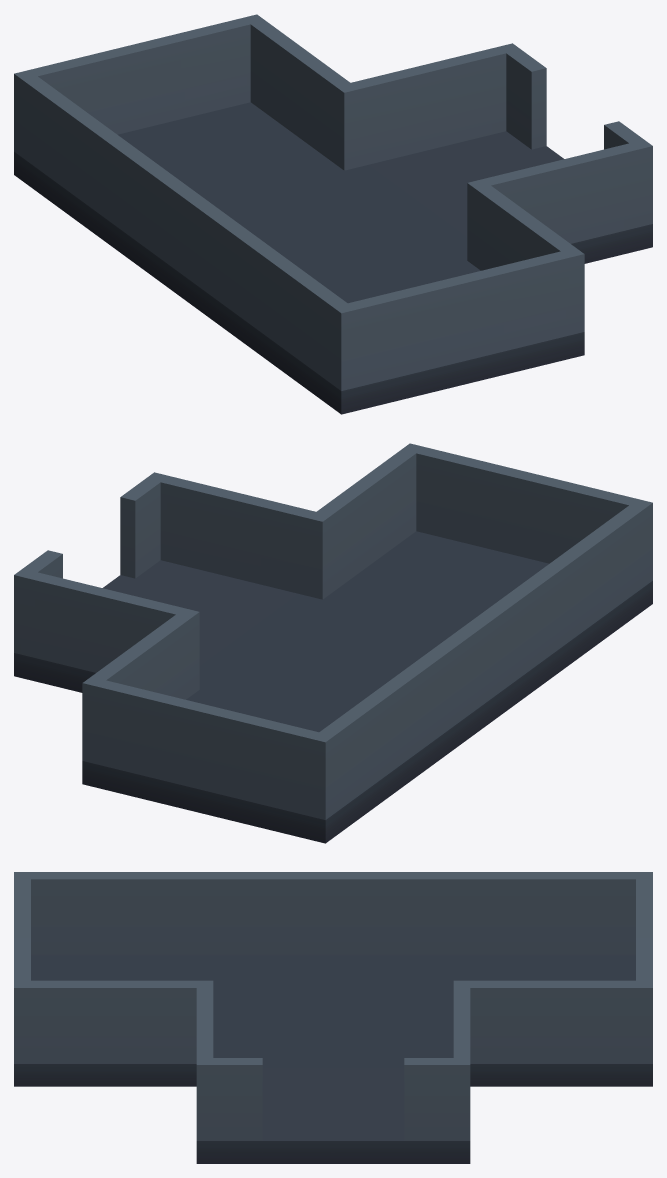
The model's file is Fundaments_3_3.fbx.
3 views of the same model, one above another, from view 1: azimuth 30°, elevation 25°; view 2: azimuth 150°, elevation 25°; view 3: azimuth 270°, elevation 25° (orthographic). The views are drawn at different scales.
Parts seen in each view (by area): view 1: Fundaments_3_3; view 2: Fundaments_3_3; view 3: Fundaments_3_3.
Part boxes in pixels (x1=…): Fundaments_3_3: x1=14, y1=14, x2=652, y2=414; Fundaments_3_3: x1=14, y1=443, x2=652, y2=843; Fundaments_3_3: x1=14, y1=872, x2=652, y2=1163.
Bounding box in the file's own units: 1000 × 239 × 1400.
